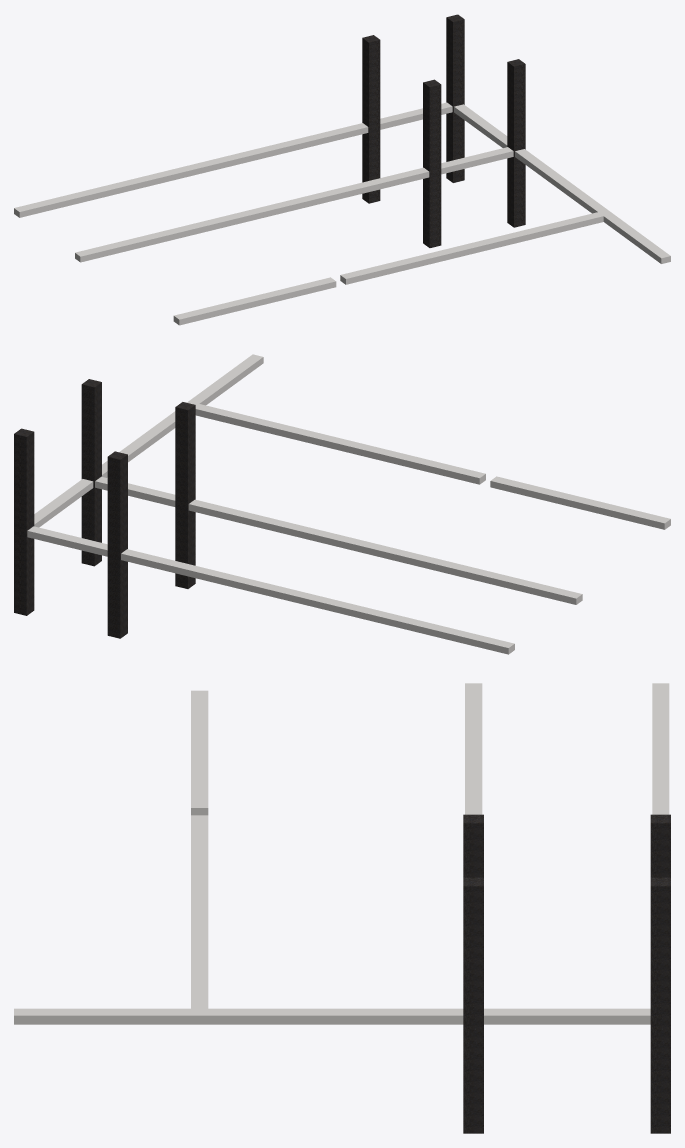
3 renders of one model, top to bottom at view 1: azimuth 30°, elevation 25°; view 2: azimuth 150°, elevation 25°; view 3: azimuth 270°, elevation 25°, orthographic. The views are drawn at different scales.
Visible parts, largest first — view 1: Concrete - Rectangular Beam 250 x 350 mm [653683]001, Concrete - Rectangular Beam 250 x 350 mm [653534]001, Concrete - Rectangular Beam 250 x 350 mm [653517]001, Concrete - Rectangular Beam 250 x 350 mm [653442]001, Columns_Rectangular 300 x 300 mm [685765]001, Columns_Rectangular 300 x 300 mm [686000]001, Columns_Rectangular 300 x 300 mm [686184]001, Columns_Rectangular 300 x 300 mm [686063]001, Concrete - Rectangular Beam 250 x 350 mm [653411]001; view 2: Concrete - Rectangular Beam 250 x 350 mm [653534]001, Concrete - Rectangular Beam 250 x 350 mm [653683]001, Concrete - Rectangular Beam 250 x 350 mm [653442]001, Columns_Rectangular 300 x 300 mm [686184]001, Columns_Rectangular 300 x 300 mm [686063]001, Columns_Rectangular 300 x 300 mm [685765]001, Columns_Rectangular 300 x 300 mm [686000]001, Concrete - Rectangular Beam 250 x 350 mm [653517]001, Concrete - Rectangular Beam 250 x 350 mm [653411]001; view 3: Concrete - Rectangular Beam 250 x 350 mm [653517]001, Columns_Rectangular 300 x 300 mm [686000]001, Columns_Rectangular 300 x 300 mm [686063]001, Concrete - Rectangular Beam 250 x 350 mm [653442]001, Concrete - Rectangular Beam 250 x 350 mm [653534]001, Concrete - Rectangular Beam 250 x 350 mm [653683]001, Concrete - Rectangular Beam 250 x 350 mm [653411]001, Columns_Rectangular 300 x 300 mm [685765]001, Columns_Rectangular 300 x 300 mm [686184]001.
Boxes of the visible parts, x1,y1,x2,y2 form: Concrete - Rectangular Beam 250 x 350 mm [653683]001: [75, 147, 513, 262]; Concrete - Rectangular Beam 250 x 350 mm [653534]001: [14, 102, 452, 217]; Concrete - Rectangular Beam 250 x 350 mm [653517]001: [454, 104, 670, 263]; Concrete - Rectangular Beam 250 x 350 mm [653442]001: [340, 212, 603, 284]; Columns_Rectangular 300 x 300 mm [685765]001: [423, 79, 441, 247]; Columns_Rectangular 300 x 300 mm [686000]001: [507, 59, 525, 227]; Columns_Rectangular 300 x 300 mm [686184]001: [362, 35, 380, 203]; Columns_Rectangular 300 x 300 mm [686063]001: [446, 14, 464, 182]; Concrete - Rectangular Beam 250 x 350 mm [653411]001: [173, 277, 336, 325]; Concrete - Rectangular Beam 250 x 350 mm [653534]001: [27, 526, 514, 654]; Concrete - Rectangular Beam 250 x 350 mm [653683]001: [95, 476, 582, 604]; Concrete - Rectangular Beam 250 x 350 mm [653442]001: [195, 404, 485, 484]; Columns_Rectangular 300 x 300 mm [686184]001: [107, 451, 127, 638]; Columns_Rectangular 300 x 300 mm [686063]001: [14, 428, 34, 615]; Columns_Rectangular 300 x 300 mm [685765]001: [175, 402, 195, 588]; Columns_Rectangular 300 x 300 mm [686000]001: [81, 379, 101, 566]; Concrete - Rectangular Beam 250 x 350 mm [653517]001: [34, 354, 263, 527]; Concrete - Rectangular Beam 250 x 350 mm [653411]001: [490, 476, 670, 529]; Concrete - Rectangular Beam 250 x 350 mm [653517]001: [14, 1008, 650, 1024]; Columns_Rectangular 300 x 300 mm [686000]001: [463, 877, 483, 1133]; Columns_Rectangular 300 x 300 mm [686063]001: [650, 877, 670, 1133]; Concrete - Rectangular Beam 250 x 350 mm [653442]001: [191, 815, 208, 1008]; Concrete - Rectangular Beam 250 x 350 mm [653534]001: [652, 683, 669, 814]; Concrete - Rectangular Beam 250 x 350 mm [653683]001: [465, 683, 482, 814]; Concrete - Rectangular Beam 250 x 350 mm [653411]001: [191, 690, 208, 815]; Columns_Rectangular 300 x 300 mm [685765]001: [463, 814, 483, 877]; Columns_Rectangular 300 x 300 mm [686184]001: [650, 814, 670, 877].
Bounding box in the file's own units: 11.56 × 4 × 9.63.
Materials: 2 (1 with a texture image).
